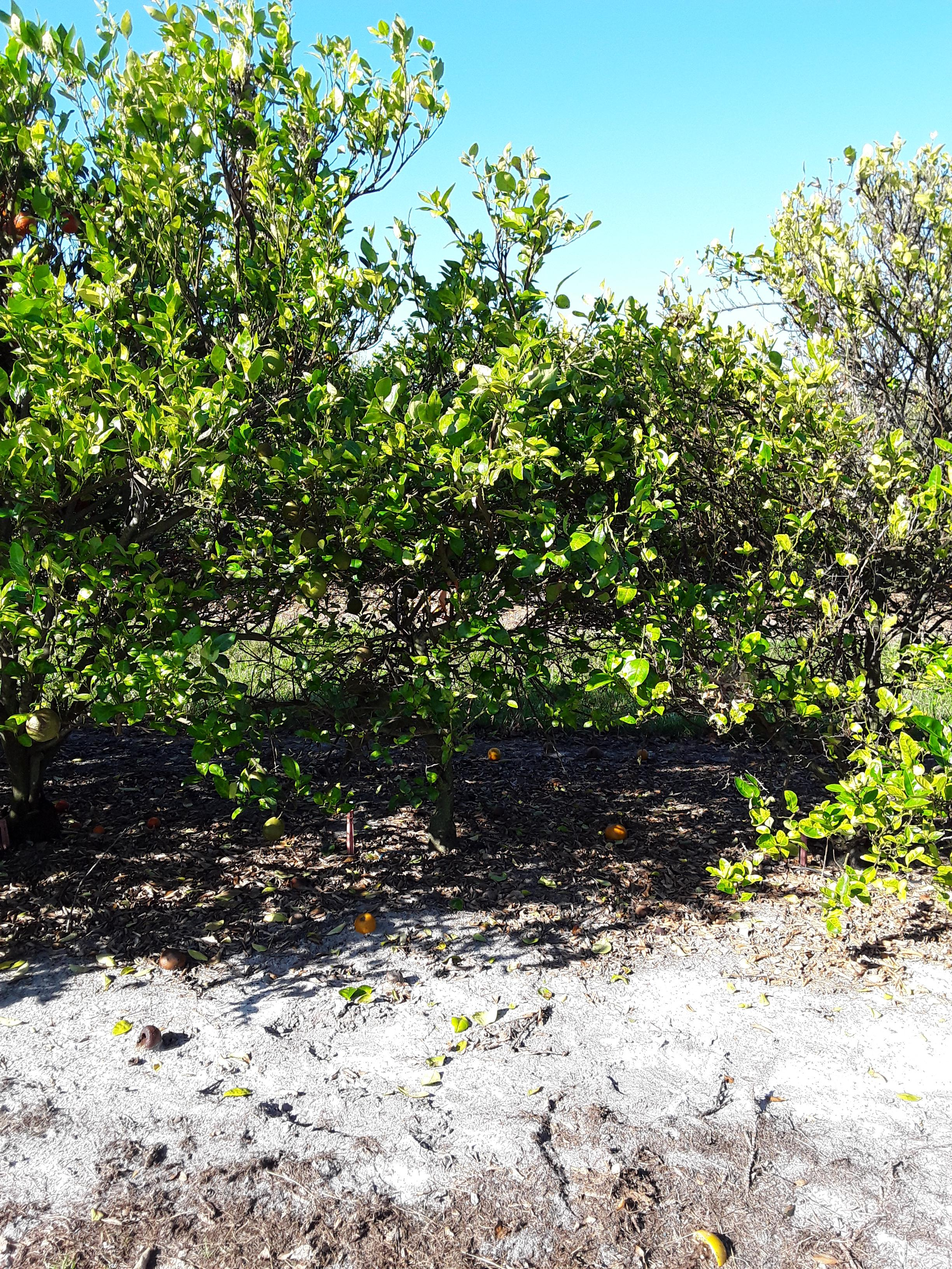fruit_on_ground: (22, 703, 64, 746), (297, 567, 330, 600), (278, 493, 312, 525), (256, 345, 287, 377), (54, 206, 83, 236), (10, 209, 38, 237), (260, 813, 287, 842), (295, 523, 325, 549), (346, 482, 373, 508), (0, 217, 26, 244), (351, 642, 377, 667), (328, 547, 353, 571), (342, 673, 370, 694), (344, 592, 366, 616), (477, 552, 499, 575), (253, 441, 275, 462), (400, 582, 416, 598), (405, 585, 420, 601)
fruit_on_tree: (684, 1226, 731, 1269), (134, 1021, 166, 1053), (156, 946, 187, 973), (352, 910, 378, 938), (603, 822, 628, 842), (584, 744, 603, 760), (52, 797, 71, 813), (485, 745, 502, 762), (144, 814, 162, 830), (634, 903, 652, 918), (635, 746, 651, 762), (91, 822, 107, 836)
